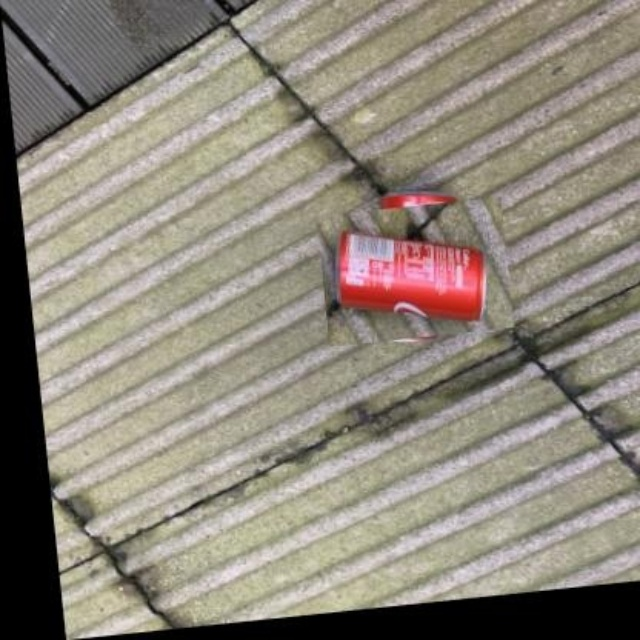trash: (338, 232, 485, 318)
